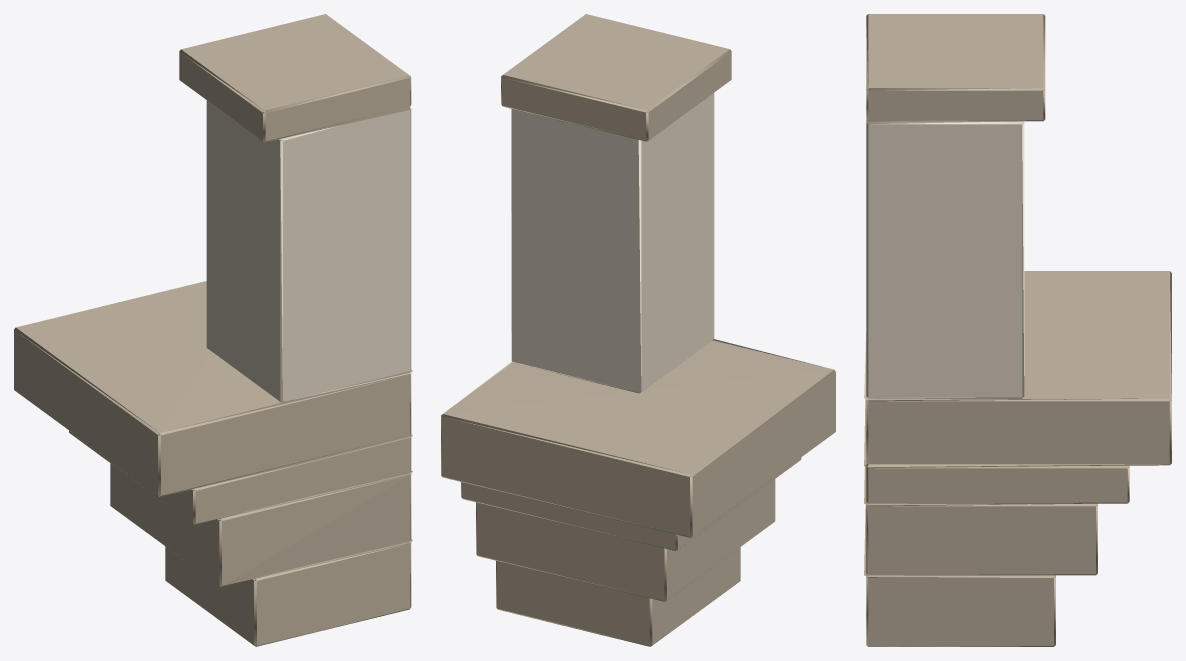
File: SM_VB_FacA_CornerCornice.fbx
The picture shows the model from 3 angles, left to right: view 1: azimuth 30°, elevation 25°; view 2: azimuth 150°, elevation 25°; view 3: azimuth 270°, elevation 25°; orthographic projection. The views are drawn at different scales.
Visible parts, largest first — view 1: SM_VB_FacA_CornerCornice; view 2: SM_VB_FacA_CornerCornice; view 3: SM_VB_FacA_CornerCornice.
Part boxes in pixels (x1,y1,x2,y2): SM_VB_FacA_CornerCornice: [14, 14, 412, 646]; SM_VB_FacA_CornerCornice: [441, 14, 835, 646]; SM_VB_FacA_CornerCornice: [864, 14, 1171, 646].
Bounding box in the file's own units: 0.584 × 1.17 × 0.584.
